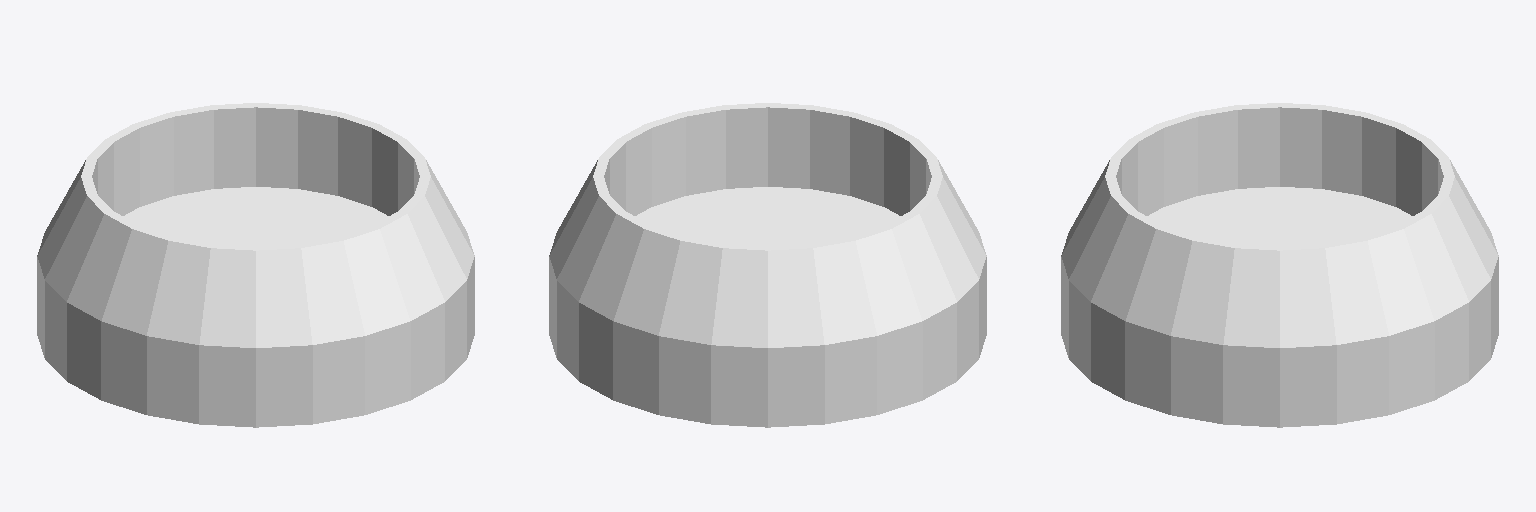
The model's file is RLV_1_Engine_1.obj.
3 renders of one model, left to right at view 1: azimuth 30°, elevation 25°; view 2: azimuth 150°, elevation 25°; view 3: azimuth 270°, elevation 25°, orthographic.
Parts seen in each view (by area): view 1: RLV_1_Engine_1; view 2: RLV_1_Engine_1; view 3: RLV_1_Engine_1.
Part boxes in pixels (x1,y1,x2,y2): RLV_1_Engine_1: (37, 103, 474, 427); RLV_1_Engine_1: (549, 103, 986, 427); RLV_1_Engine_1: (1061, 103, 1498, 427).
Size of the model in its own units: 1.25 by 0.5 by 1.25.